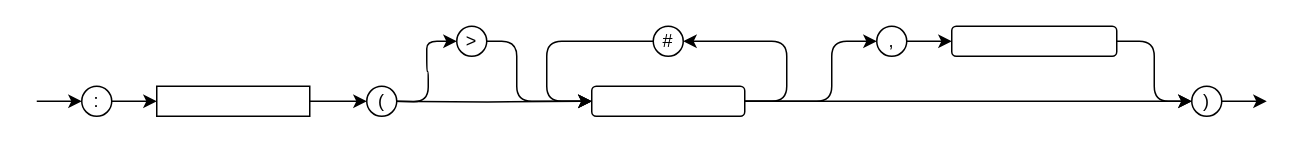
This 1305x143 diagram has some shape labels left out. The box of each missing label's shape, as (x1, y1, x2, y2) in pixels:
index: (155, 85, 310, 116)
key expression: (590, 85, 745, 116)
mapper expression: (950, 25, 1117, 56)
